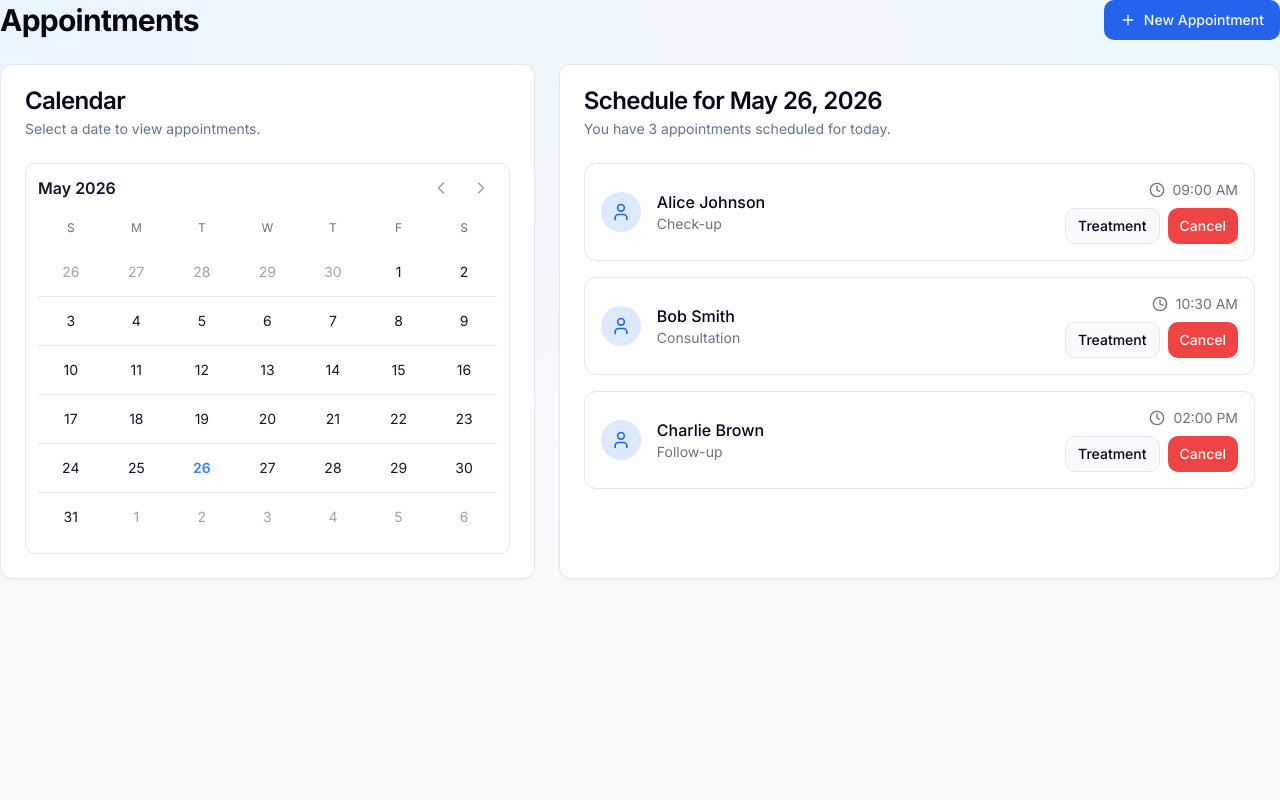
Test: AppointmentsPage › opens new appointment dialog
Click the button "New Appointment": (1192, 20) [1104,0,1279,40]
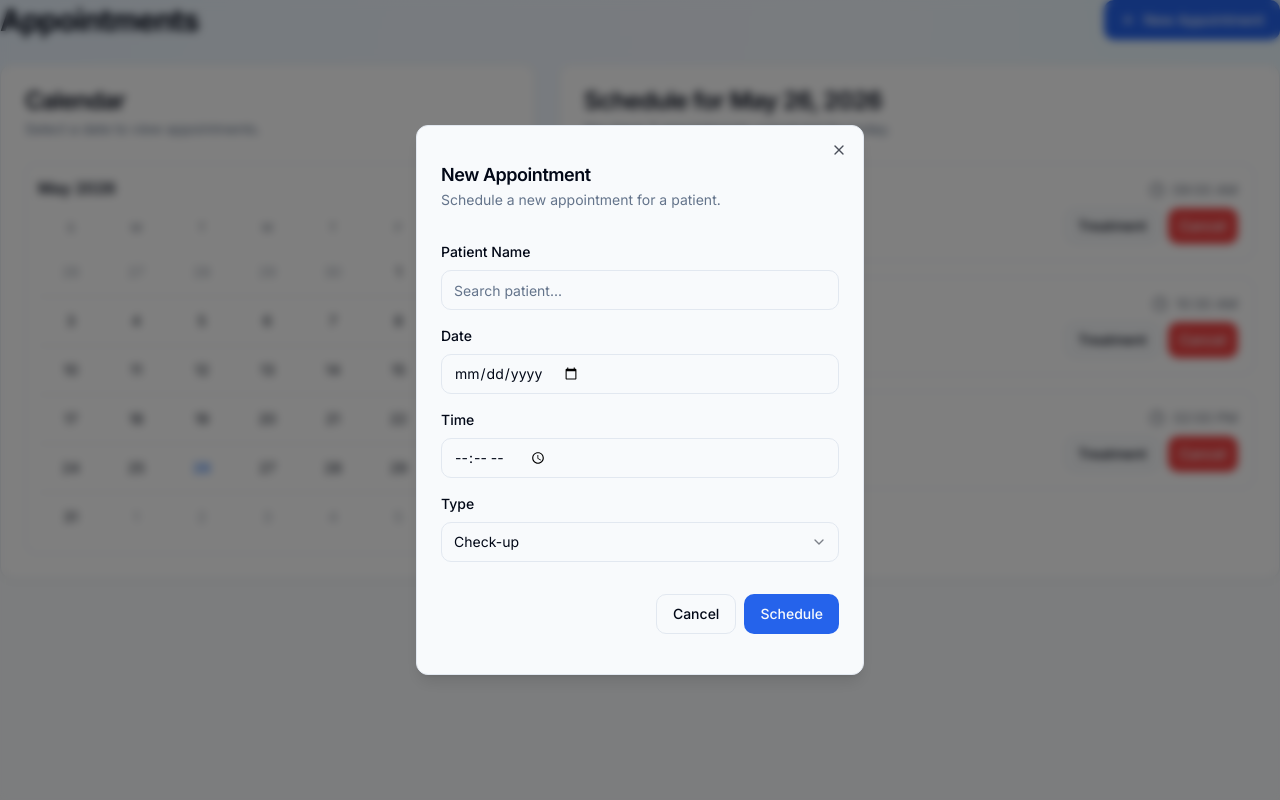
expect the dialog is shown: met, box [416,125,864,675]
expect the text "Schedule a new appointment for a patient." is shown: met, box [441,191,721,208]
